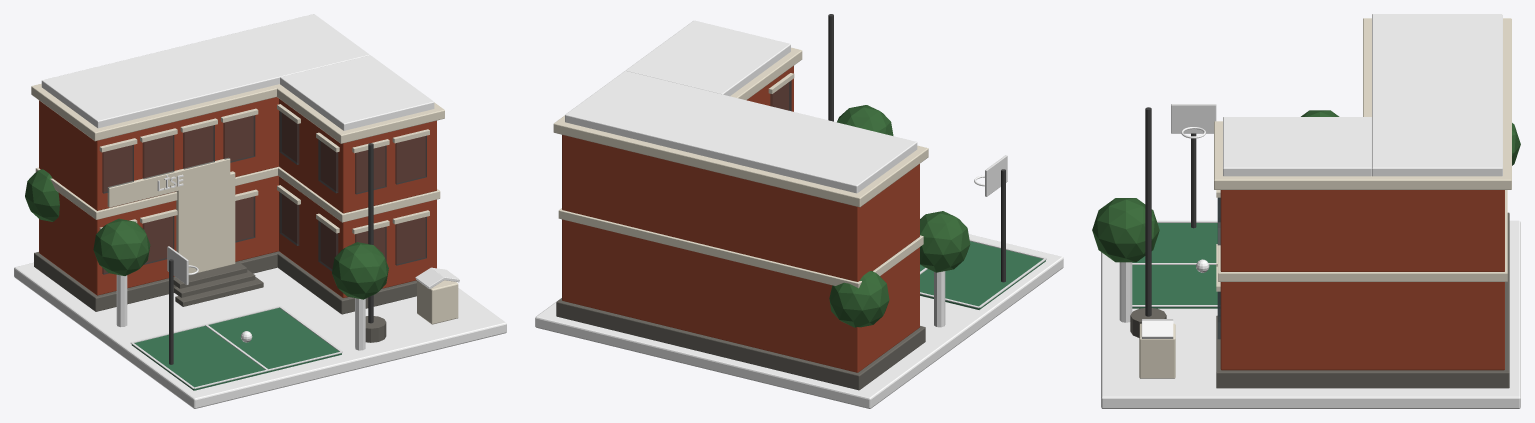
Rendered from lise.glb.
The picture shows the model from 3 angles, left to right: view 1: azimuth 30°, elevation 25°; view 2: azimuth 150°, elevation 25°; view 3: azimuth 270°, elevation 25°; orthographic projection. The views are drawn at different scales.
Visible parts, largest first — view 1: Ana1; view 2: Ana1; view 3: Ana1.
Boxes of the visible parts, x1=… form: Ana1: x1=14, y1=14, x2=506, y2=408; Ana1: x1=535, y1=14, x2=1063, y2=408; Ana1: x1=1092, y1=14, x2=1520, y2=408.
Bounding box in the file's own units: 0.9856 × 0.6053 × 1.
